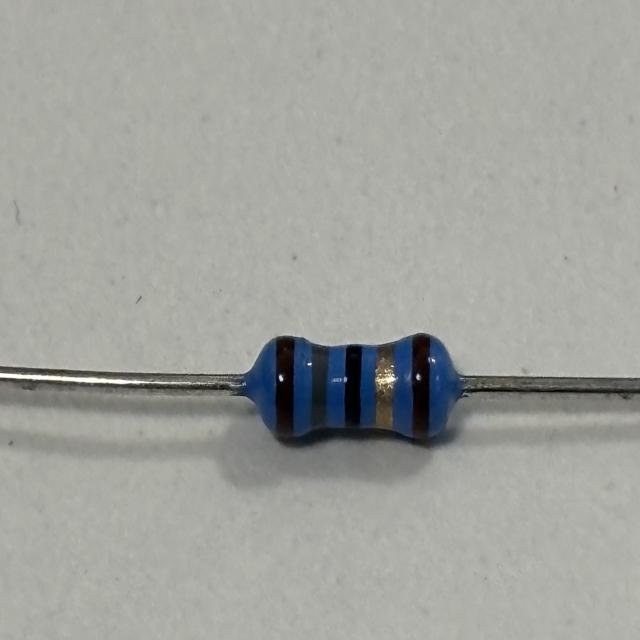resistor: (261, 329, 453, 450)
